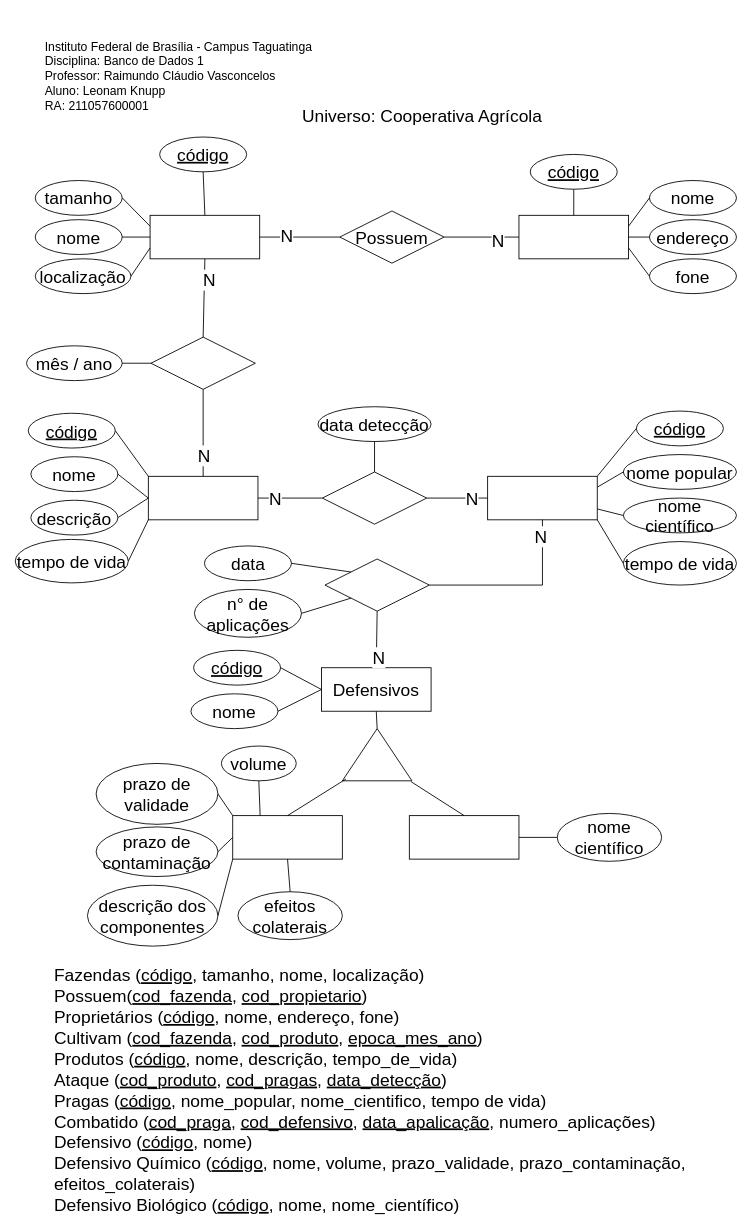
Some shapes in this 752 by 1229 pixel diagram are drawn without their labels. Each missing label, with the centre of its shape:
ataque: (x=374, y=497)
combatido: (x=376, y=584)
Cultivam: (x=202, y=362)
Defensivos Biológicos: (x=463, y=837)
Defensivos Quimicos: (x=287, y=837)
Fazendas: (x=204, y=236)
Pragas: (x=542, y=497)
Produtos: (x=202, y=497)
Proprietários: (x=573, y=236)
é um: (x=376, y=754)
